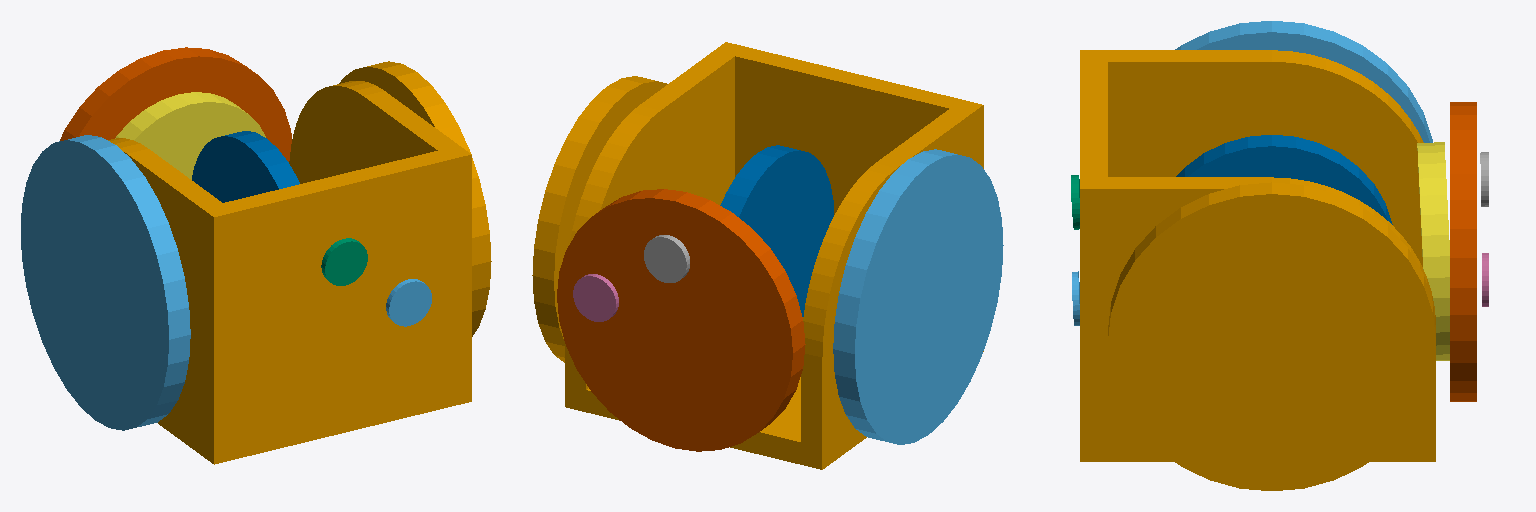
The robot description file, URDF, robot "ditto18":
<?xml version="1.0" ?>
<robot name="ditto18">
  <joint name="ditto18__body_JOINT_0" type="fixed">
    <parent link="ditto18__body"/>
    <child link="ditto18__body_magnet_south"/>
    <origin rpy="1.63618000e+00  -4.00000000e-05   2.10000000e-04" xyz="0      -0.07149  0.04"/>
    <axis xyz="1.00000000e+00  -2.00000000e-05   2.20000000e-04"/>
    <limit effort="-1.0" lower="0.0" upper="0.0" velocity="-1.0"/>
  </joint>
  <joint name="ditto18__body_JOINT_1" type="fixed">
    <parent link="ditto18__body"/>
    <child link="ditto18__body_magnet_north"/>
    <origin rpy="1.62063000e+00  -3.00000000e-05   1.60000000e-04" xyz="0.03    -0.07149  0.015"/>
    <axis xyz="1.00000000e+00  -2.00000000e-05   1.60000000e-04"/>
    <limit effort="-1.0" lower="0.0" upper="0.0" velocity="-1.0"/>
  </joint>
  <joint name="ditto18__fixed_joint" type="fixed">
    <parent link="ditto18__face_tilt"/>
    <child link="ditto18__face_pan"/>
    <origin rpy="1.54872000e+00  -2.00000000e-05   4.30500000e-02" xyz="0    0.06  0"/>
    <axis xyz="-9.99070000e-01   6.00000000e-05  -4.30500000e-02"/>
    <limit effort="-1.0" lower="0.0" upper="0.0" velocity="-1.0"/>
  </joint>
  <joint name="ditto18__front_face_JOINT_0" type="fixed">
    <parent link="ditto18__front_face"/>
    <child link="ditto18__front_face_magnet_north"/>
    <origin rpy="1.57071000e+00  -1.00000000e-05   1.00000000e-04" xyz="0.03   0.008 -0.005"/>
    <axis xyz="1.00000000e+00  -1.00000000e-05   8.00000000e-05"/>
    <limit effort="-1.0" lower="0.0" upper="0.0" velocity="-1.0"/>
  </joint>
  <joint name="ditto18__front_face_JOINT_1" type="fixed">
    <parent link="ditto18__front_face"/>
    <child link="ditto18__front_face_magnet_south"/>
    <origin rpy="1.58626000e+00  -2.00000000e-05   1.60000000e-04" xyz="-0.003  0.008  0.02"/>
    <axis xyz="1.00000000e+00  -2.00000000e-05   1.30000000e-04"/>
    <limit effort="-1.0" lower="0.0" upper="0.0" velocity="-1.0"/>
  </joint>
  <joint name="ditto18__left_wheel_joint" type="revolute">
    <parent link="ditto18__body"/>
    <child link="ditto18__left_wheel"/>
    <origin rpy="1.5707  0      1.5707" xyz="0.07     0       0.01833"/>
    <axis xyz="0.00000000e+00   1.00000000e+00   9.00000000e-05"/>
    <limit effort="-1.0" lower="-1.79769e+308" upper="1.79769e+308" velocity="-1.0"/>
  </joint>
  <joint name="ditto18__pan_joint" type="revolute">
    <parent link="ditto18__face_pan"/>
    <child link="ditto18__front_face"/>
    <origin rpy="-1.61389 -0.02206  1.57168" xyz="0.00043  0.00022 -0.00998"/>
    <axis xyz="-2.00000000e-05   1.00000000e+00   1.00000000e-05"/>
    <limit effort="-1.0" lower="-1.79769e+308" upper="1.79769e+308" velocity="-1.0"/>
  </joint>
  <joint name="ditto18__right_wheel_joint" type="revolute">
    <parent link="ditto18__body"/>
    <child link="ditto18__right_wheel"/>
    <origin rpy="1.5707  0      1.5707" xyz="-0.07     0       0.01833"/>
    <axis xyz="0.00000000e+00   1.00000000e+00   9.00000000e-05"/>
    <limit effort="-1.0" lower="-1.79769e+308" upper="1.79769e+308" velocity="-1.0"/>
  </joint>
  <joint name="ditto18__tilt_joint" type="revolute">
    <parent link="ditto18__body"/>
    <child link="ditto18__face_tilt"/>
    <origin rpy="-3.14159  1.56989 -3.14159" xyz="0    0    0.02"/>
    <axis xyz="-1.00000000e+00   0.00000000e+00  -9.00000000e-04"/>
    <limit effort="-1.0" lower="0.0" upper="1.5707" velocity="-1.0"/>
  </joint>
  <link name="ditto18__body">
    <inertial>
      <mass value="5"/>
      <origin rpy="0  0  0" xyz="0  0  0"/>
      <inertia ixx="0.166667" ixy="0" ixz="0" iyy="0.166667" iyz="0" izz="0.166667"/>
    </inertial>
    <collision name="ditto18__collision">
      <origin rpy="0  0  0" xyz="0       0      -0.03666"/>
      <geometry>
       <mesh filename="package://gp_abstract_sim/meshes/bodyCorrected.stl" scale="0.01 0.01 0.01"/>
      </geometry>
    </collision>
    <visual name="ditto18__visual">
      <origin rpy="0  0  0" xyz="0       0      -0.03666"/>
      <geometry>
       <mesh filename="package://gp_abstract_sim/meshes/bodyCorrected.stl" scale="0.01 0.01 0.01"/>
      </geometry>
    </visual>
  </link>
  <link name="ditto18__body_magnet_north">
    <inertial>
      <mass value="1e-07"/>
      <origin rpy="0  0  0" xyz="0  0  0"/>
      <inertia ixx="0" ixy="0" ixz="0" iyy="0" iyz="0" izz="0"/>
    </inertial>
    <collision name="ditto18__box_collision">
      <origin rpy="0  0  0" xyz="0  0  0"/>
      <geometry>
        <cylinder length="0.0025" radius="0.01"/>
      </geometry>
    </collision>
    <visual name="ditto18__visual">
      <origin rpy="0  0  0" xyz="0  0  0"/>
      <geometry>
        <cylinder length="0.0025" radius="0.01"/>
      </geometry>
    </visual>
  </link>
  <link name="ditto18__body_magnet_south">
    <inertial>
      <mass value="1e-07"/>
      <origin rpy="0  0  0" xyz="0  0  0"/>
      <inertia ixx="0" ixy="0" ixz="0" iyy="0" iyz="0" izz="0"/>
    </inertial>
    <collision name="ditto18__box_collision">
      <origin rpy="0  0  0" xyz="0  0  0"/>
      <geometry>
        <cylinder length="0.003" radius="0.01"/>
      </geometry>
    </collision>
    <visual name="ditto18__visual">
      <origin rpy="0  0  0" xyz="0  0  0"/>
      <geometry>
        <cylinder length="0.003" radius="0.01"/>
      </geometry>
    </visual>
  </link>
  <link name="ditto18__face_pan">
    <inertial>
      <mass value="0.5"/>
      <origin rpy="0  0  0" xyz="0  0  0"/>
      <inertia ixx="0.145833" ixy="0" ixz="0" iyy="0.145833" iyz="0" izz="0.125"/>
    </inertial>
    <collision name="ditto18__collision">
      <origin rpy="0  0  0" xyz="0  0  0"/>
      <geometry>
        <cylinder length="0.01" radius="0.04"/>
      </geometry>
    </collision>
    <visual name="ditto18__visual">
      <origin rpy="0  0  0" xyz="0  0  0"/>
      <geometry>
        <cylinder length="0.01" radius="0.04"/>
      </geometry>
    </visual>
  </link>
  <link name="ditto18__face_tilt">
    <inertial>
      <mass value="0.0001"/>
      <origin rpy="0  0  0" xyz="0  0  0"/>
      <inertia ixx="0.145833" ixy="0" ixz="0" iyy="0.145833" iyz="0" izz="0.125"/>
    </inertial>
    <collision name="ditto18__collision">
      <origin rpy="0  0  0" xyz="0  0  0"/>
      <geometry>
        <cylinder length="0.01" radius="0.045"/>
      </geometry>
    </collision>
    <visual name="ditto18__visual">
      <origin rpy="0  0  0" xyz="0  0  0"/>
      <geometry>
        <cylinder length="0.01" radius="0.045"/>
      </geometry>
    </visual>
  </link>
  <link name="ditto18__front_face">
    <inertial>
      <mass value="0.5"/>
      <origin rpy="0  0  0" xyz="0  0  0"/>
      <inertia ixx="0.166667" ixy="0" ixz="0" iyy="0.166667" iyz="0" izz="0.166667"/>
    </inertial>
    <collision name="ditto18__collision">
      <origin rpy="1.5707  0      0" xyz="0  0  0"/>
      <geometry>
        <cylinder length="0.01" radius="0.05"/>
      </geometry>
    </collision>
    <visual name="ditto18__visual">
      <origin rpy="1.5707  0      0" xyz="0  0  0"/>
      <geometry>
        <cylinder length="0.01" radius="0.055"/>
      </geometry>
    </visual>
  </link>
  <link name="ditto18__front_face_magnet_north">
    <inertial>
      <mass value="1e-07"/>
      <origin rpy="0  0  0" xyz="0  0  0"/>
      <inertia ixx="0" ixy="0" ixz="0" iyy="0" iyz="0" izz="0"/>
    </inertial>
    <collision name="ditto18__box_collision">
      <origin rpy="0  0  0" xyz="0  0  0"/>
      <geometry>
        <cylinder length="0.0025" radius="0.01"/>
      </geometry>
    </collision>
    <visual name="ditto18__visual">
      <origin rpy="0  0  0" xyz="0.005  0.01   0"/>
      <geometry>
        <cylinder length="0.0025" radius="0.01"/>
      </geometry>
    </visual>
  </link>
  <link name="ditto18__front_face_magnet_south">
    <inertial>
      <mass value="1e-07"/>
      <origin rpy="0  0  0" xyz="0  0  0"/>
      <inertia ixx="0" ixy="0" ixz="0" iyy="0" iyz="0" izz="0"/>
    </inertial>
    <collision name="ditto18__box_collision">
      <origin rpy="0  0  0" xyz="0  0  0"/>
      <geometry>
        <cylinder length="0.003" radius="0.01"/>
      </geometry>
    </collision>
    <visual name="ditto18__visual">
      <origin rpy="0  0  0" xyz="0.005  0.01   0"/>
      <geometry>
        <cylinder length="0.003" radius="0.01"/>
      </geometry>
    </visual>
  </link>
  <link name="ditto18__left_wheel">
    <inertial>
      <mass value="0.5"/>
      <origin rpy="0  0  0" xyz="0  0  0"/>
      <inertia ixx="0.145833" ixy="0" ixz="0" iyy="0.145833" iyz="0" izz="0.125"/>
    </inertial>
    <collision name="ditto18__collision">
      <origin rpy="0  0  0" xyz="0  0  0"/>
      <geometry>
        <cylinder length="0.01" radius="0.06"/>
      </geometry>
    </collision>
    <visual name="ditto18__visual">
      <origin rpy="0  0  0" xyz="0  0  0"/>
      <geometry>
        <cylinder length="0.01" radius="0.06"/>
      </geometry>
    </visual>
  </link>
  <link name="ditto18__right_wheel">
    <inertial>
      <mass value="0.5"/>
      <origin rpy="0  0  0" xyz="0  0  0"/>
      <inertia ixx="0.145833" ixy="0" ixz="0" iyy="0.145833" iyz="0" izz="0.125"/>
    </inertial>
    <collision name="ditto18__collision">
      <origin rpy="0  0  0" xyz="0  0  0"/>
      <geometry>
        <cylinder length="0.01" radius="0.06"/>
      </geometry>
    </collision>
    <visual name="ditto18__visual">
      <origin rpy="0  0  0" xyz="0  0  0"/>
      <geometry>
        <cylinder length="0.01" radius="0.06"/>
      </geometry>
    </visual>
  </link>
</robot>

--- Render facts (derived) ---
The picture shows the robot from 3 angles, left to right: view 1: azimuth 30°, elevation 25°; view 2: azimuth 150°, elevation 25°; view 3: azimuth 270°, elevation 25°; orthographic projection.
Model ditto18 with 10 links and 9 joints (4 revolute, 5 fixed), rooted at ditto18__body, posed all joints at 0.
Visible links, largest first — view 1: ditto18__body, ditto18__right_wheel, ditto18__front_face, ditto18__face_pan, ditto18__left_wheel, ditto18__face_tilt, ditto18__body_magnet_south, ditto18__body_magnet_north; view 2: ditto18__body, ditto18__front_face, ditto18__right_wheel, ditto18__face_tilt, ditto18__left_wheel, ditto18__front_face_magnet_south, ditto18__front_face_magnet_north; view 3: ditto18__left_wheel, ditto18__body, ditto18__front_face, ditto18__face_tilt, ditto18__right_wheel, ditto18__face_pan.
Link boxes in pixels (x1,y1,x2,y2): ditto18__body: (108, 81, 471, 464); ditto18__right_wheel: (21, 135, 190, 430); ditto18__front_face: (60, 47, 291, 161); ditto18__face_pan: (115, 92, 265, 179); ditto18__left_wheel: (339, 61, 491, 336); ditto18__face_tilt: (192, 131, 299, 202); ditto18__body_magnet_south: (321, 238, 367, 285); ditto18__body_magnet_north: (386, 279, 431, 326); ditto18__body: (565, 42, 983, 469); ditto18__front_face: (557, 189, 805, 451); ditto18__right_wheel: (833, 149, 1003, 444); ditto18__face_tilt: (720, 145, 833, 316); ditto18__left_wheel: (532, 76, 667, 362); ditto18__front_face_magnet_south: (644, 235, 689, 282); ditto18__front_face_magnet_north: (573, 274, 618, 321); ditto18__left_wheel: (1108, 182, 1435, 490); ditto18__body: (1080, 50, 1435, 461); ditto18__front_face: (1450, 102, 1476, 401); ditto18__face_tilt: (1176, 135, 1392, 224); ditto18__right_wheel: (1175, 21, 1432, 142); ditto18__face_pan: (1417, 142, 1449, 360).
Bounding box of the posed robot: 0.15 × 0.1531 × 0.12 m (x, y, z).
1 mesh visuals loaded from 1 distinct referenced files (1 binary STL).
